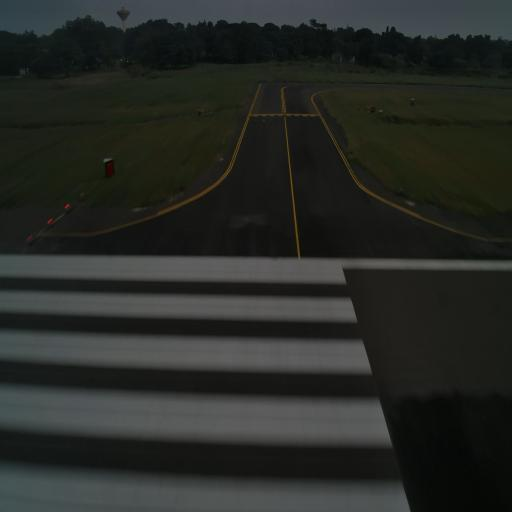on: (25, 230, 33, 248), (44, 215, 54, 227), (64, 198, 71, 213), (78, 192, 86, 198)
